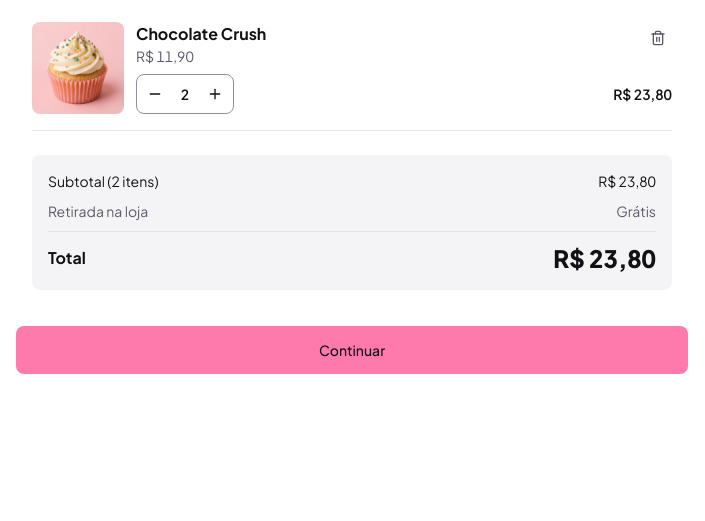
Test: US-09 edit cart items › AC3: cancelling keeps the item unchanged
Expected: the heading "Chocolate Crush" is shown, [136,22,266,46]
What coordinates should you click on to do the following:
click the button named "Remover Chocolate Crush"
I would click on:
 (658, 38)
Its box is [636,16,680,60].
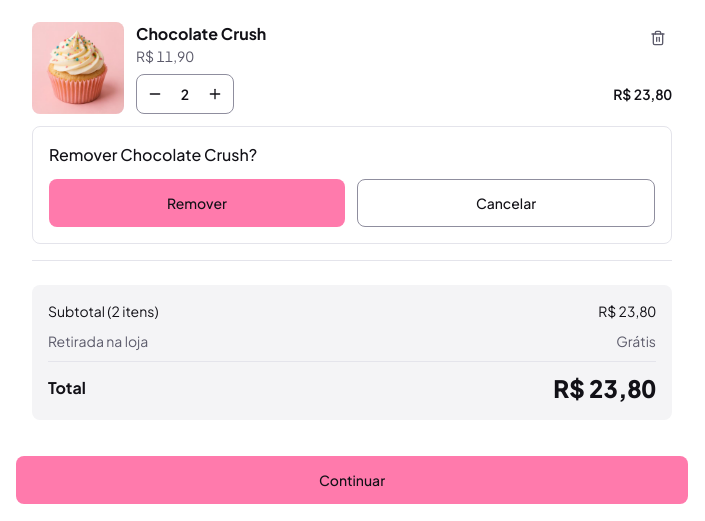
What coordinates should you click on to do the following:
click the button "Cancelar"
I would click on:
 (506, 203)
Its box is [357,179,655,227].
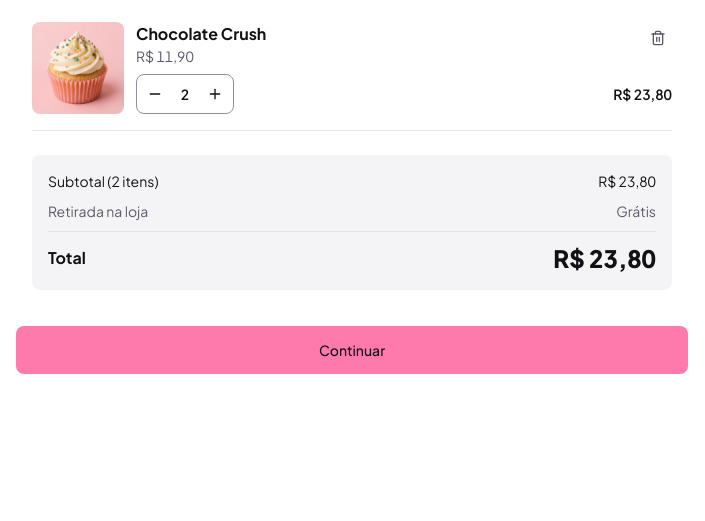
Expected: the text "Remover Chocolate Crush?" is gone
